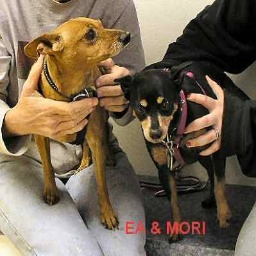dog: (16, 18, 251, 228)
